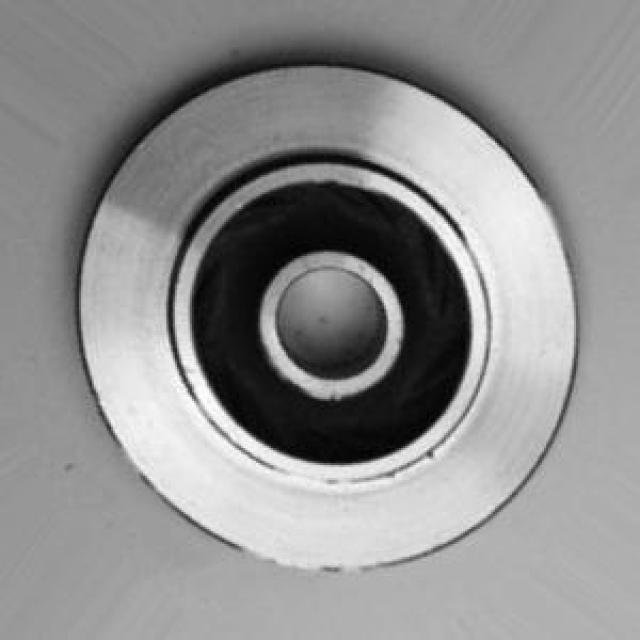Defect: (422, 446, 441, 465)
